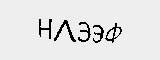Л: (54, 17, 76, 43)
Н: (33, 15, 51, 41)
Ф: (103, 18, 123, 45)
Э: (91, 20, 107, 44), (76, 20, 92, 41)
